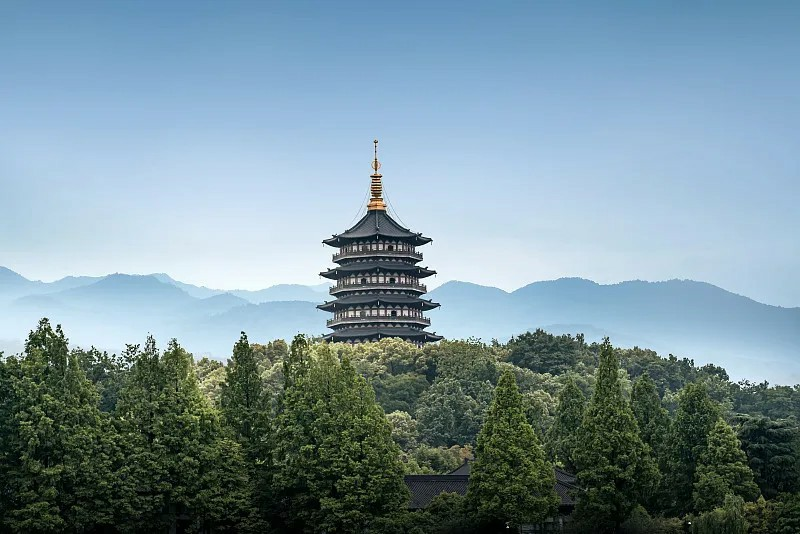Leifeng: (312, 136, 443, 349)
